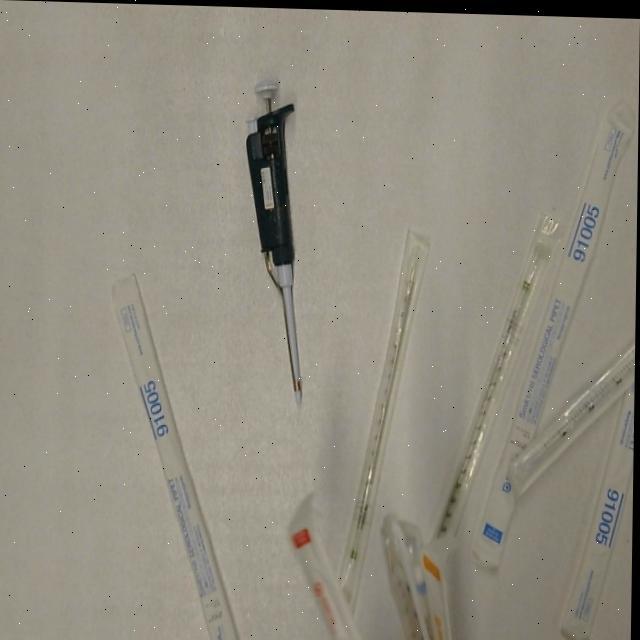Serelogical Pipet 10 mL: (422, 536, 459, 640)
Serelogical Pipet 2 mL: (429, 198, 568, 560), (331, 217, 432, 640)
Serelogical Pipet 25 mL: (284, 480, 375, 640)
Serelogical Pipet 5 mL: (470, 101, 636, 573), (102, 261, 255, 640), (507, 333, 636, 499), (558, 376, 636, 640)
Single Channel Pipettor: (238, 69, 325, 404)
